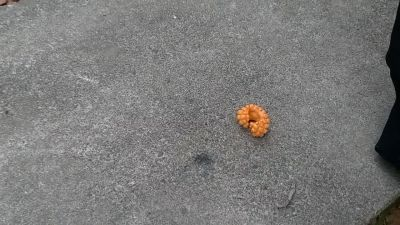eggs: (235, 103, 271, 138)
